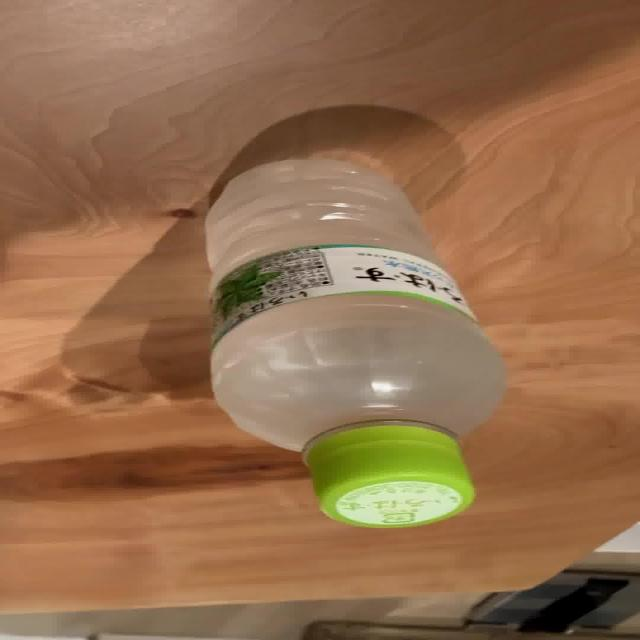bottle: (197, 155, 512, 531)
